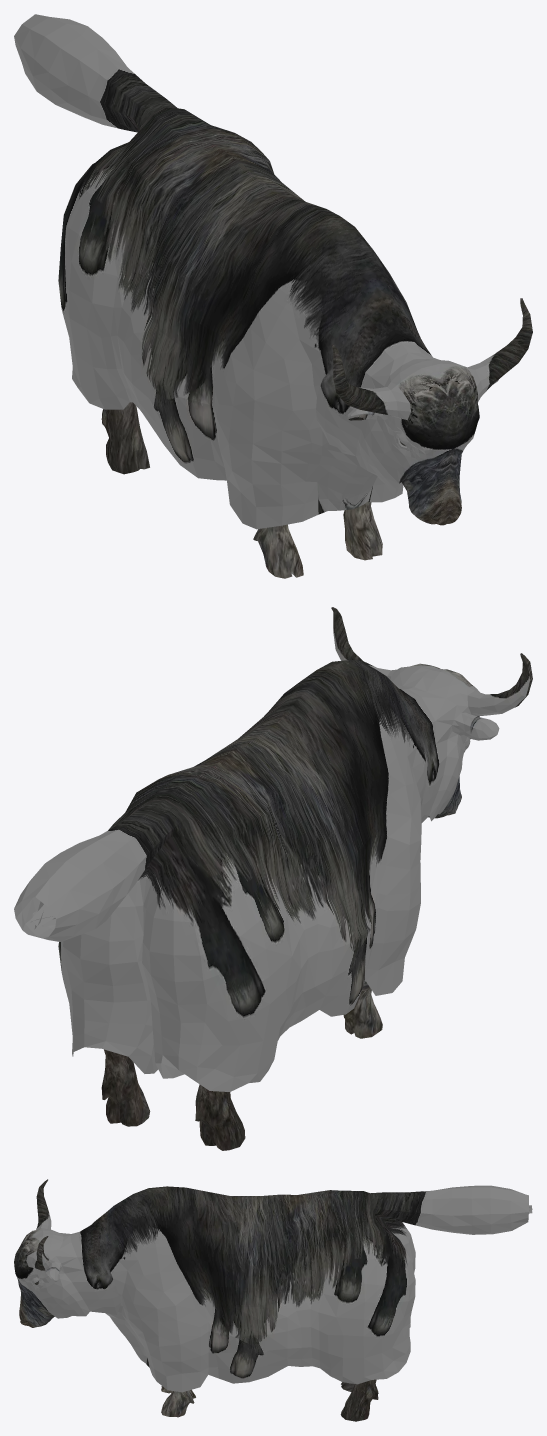
The model's file is realyak.glb.
3 renders of one model, top to bottom at view 1: azimuth 30°, elevation 25°; view 2: azimuth 150°, elevation 25°; view 3: azimuth 270°, elevation 25°, orthographic. The views are drawn at different scales.
Visible parts, largest first — view 1: Object_2; view 2: Object_2; view 3: Object_2.
Boxes of the visible parts, x1,y1,x2,y2 form: Object_2: (14,14,532,578); Object_2: (14,607,532,1150); Object_2: (14,1179,532,1421).
Bounding box in the file's own units: 0.9742 × 1.6 × 3.5.
1 material, 1 textured.
